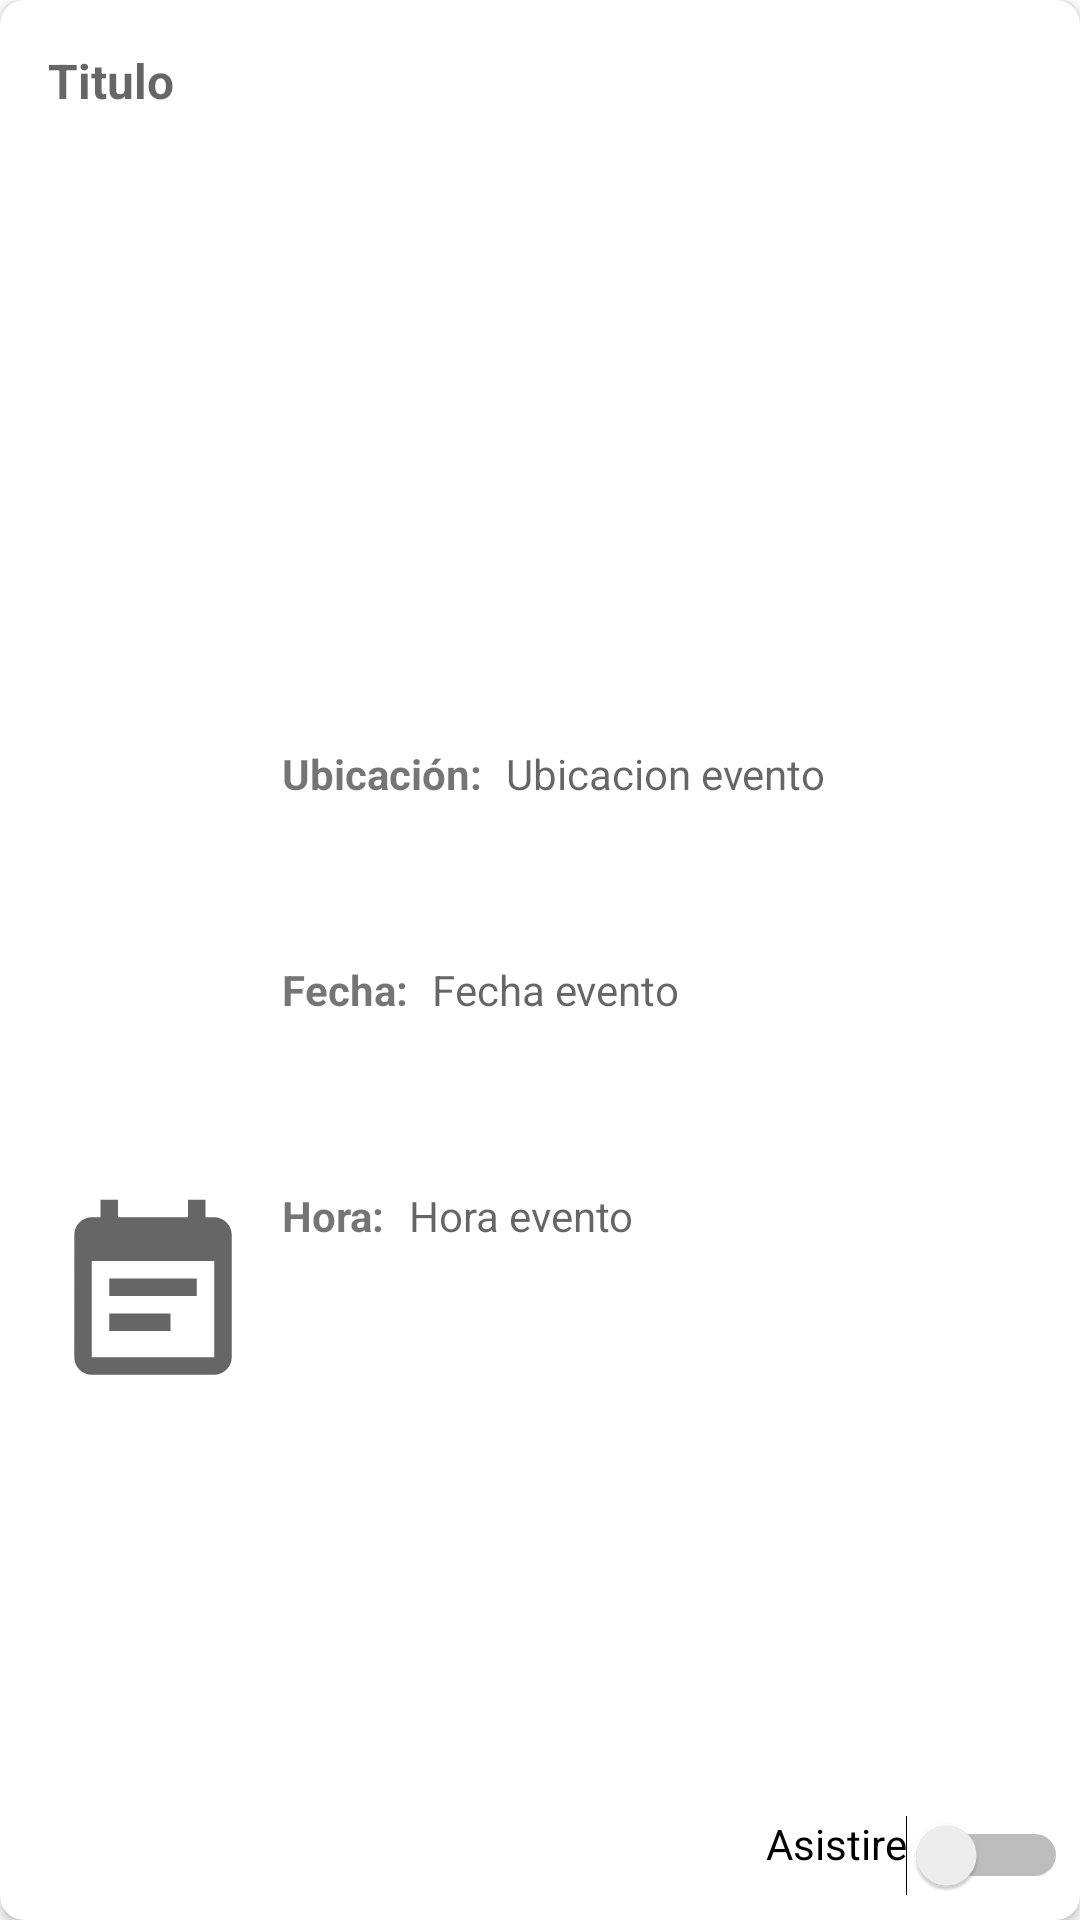

Icon click points for this 1080w x 1920h phone screenshot, format (x,y):
event: (153,1287)
